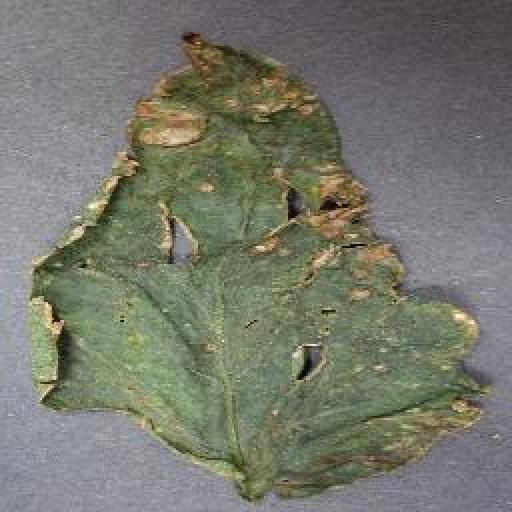Bacterial Spot: (24, 28, 496, 501)
